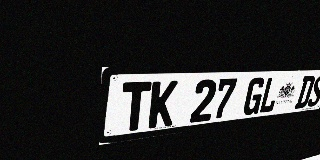2: (190, 79, 218, 123)
7: (211, 78, 238, 120)
D: (294, 75, 316, 109)
G: (241, 77, 267, 116)
K: (148, 80, 178, 129)
L: (258, 77, 282, 114)
S: (306, 75, 320, 107)
T: (120, 81, 152, 132)
